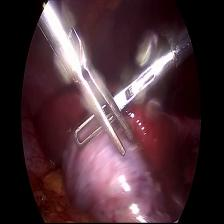Grasper: (52, 10, 134, 158), (72, 44, 174, 158)
